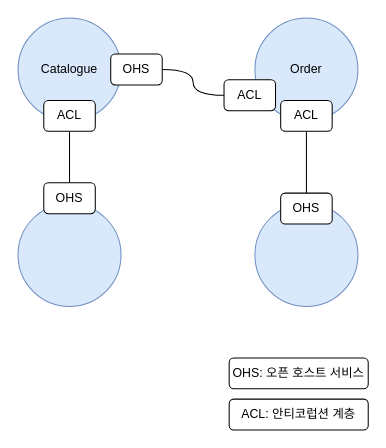
This 386x448 diagram has some shape labels left out. Here are the shapes that lost their labels. From the top down, the box of each, then its label:
(17, 202, 121, 306): Review
(254, 202, 358, 306): Member
